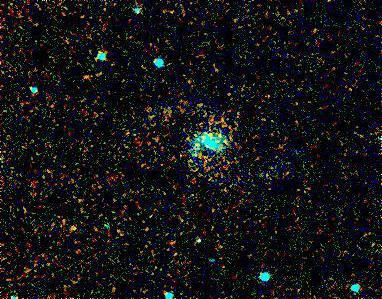star: (54, 213, 84, 243)
